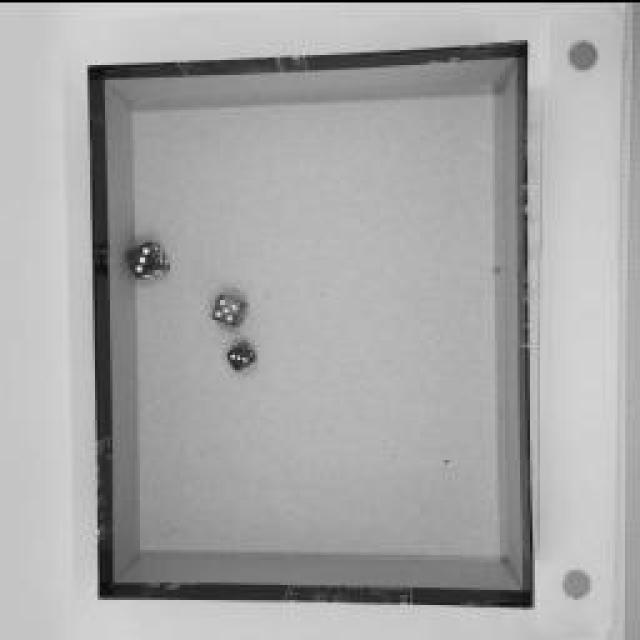dice_3: (122, 238, 172, 282), (225, 340, 257, 370)
dice_5: (209, 292, 251, 322)
